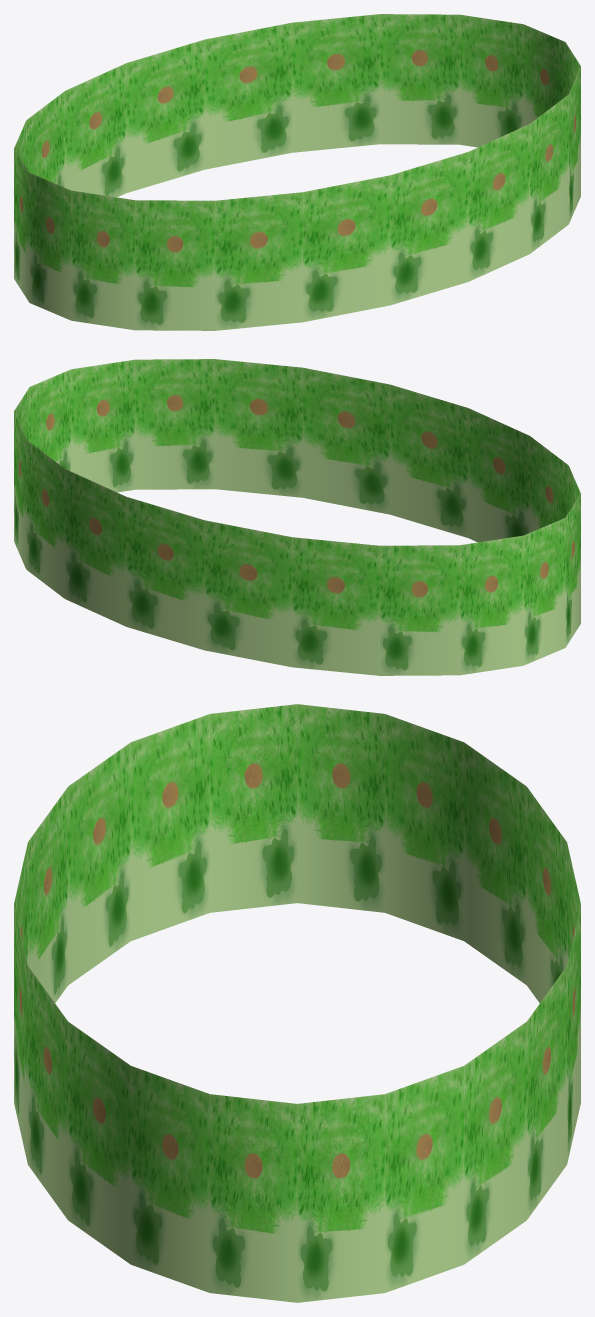
The model's file is stage01_roll.fbx.
3 renders of one model, top to bottom at view 1: azimuth 30°, elevation 25°; view 2: azimuth 150°, elevation 25°; view 3: azimuth 270°, elevation 25°, orthographic. The views are drawn at different scales.
Visible parts, largest first — view 1: stage; view 2: stage; view 3: stage.
Part boxes in pixels (x1,y1,x2,y2): stage: (14, 14, 580, 330); stage: (14, 359, 580, 675); stage: (14, 704, 580, 1302).
Bounding box in the file's own units: 24.99 × 5.8 × 14.98.
